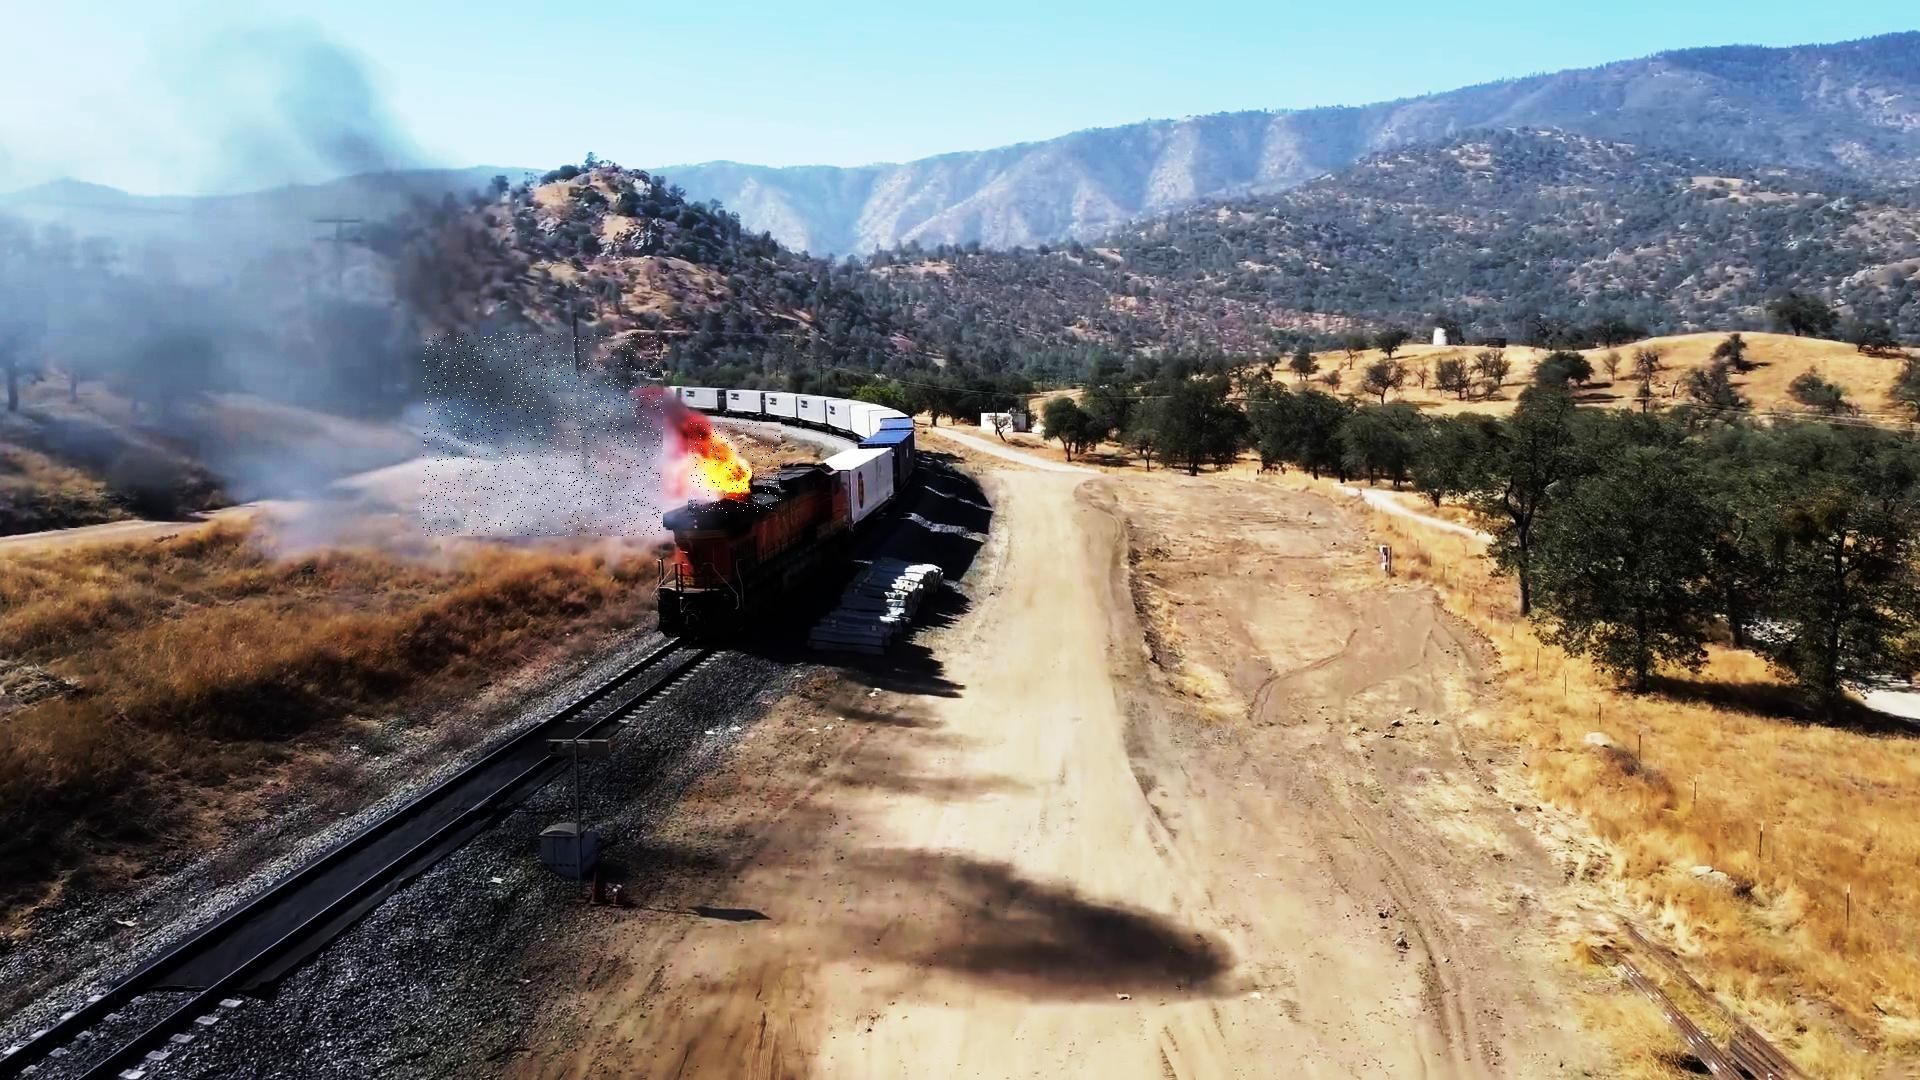fire: (688, 423, 781, 514)
smoke: (423, 334, 663, 537)
